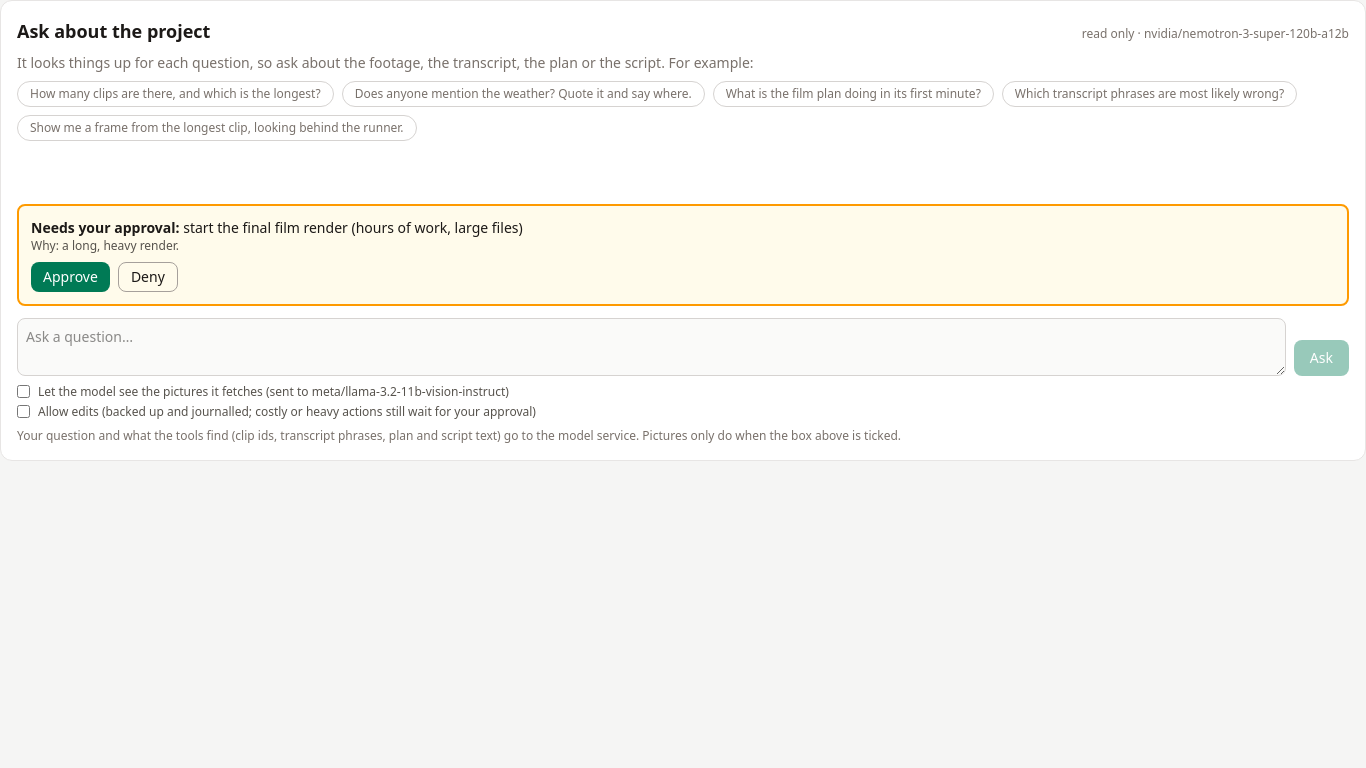
AskPage › shows what waits for approval when the page opens, and an answer can add to it
Expected: the text "Why: a long, heavy render." is shown, [31,237,179,254]
Type "render it" into the text box named "Your question" at (651, 347), box [17,318,1286,376]
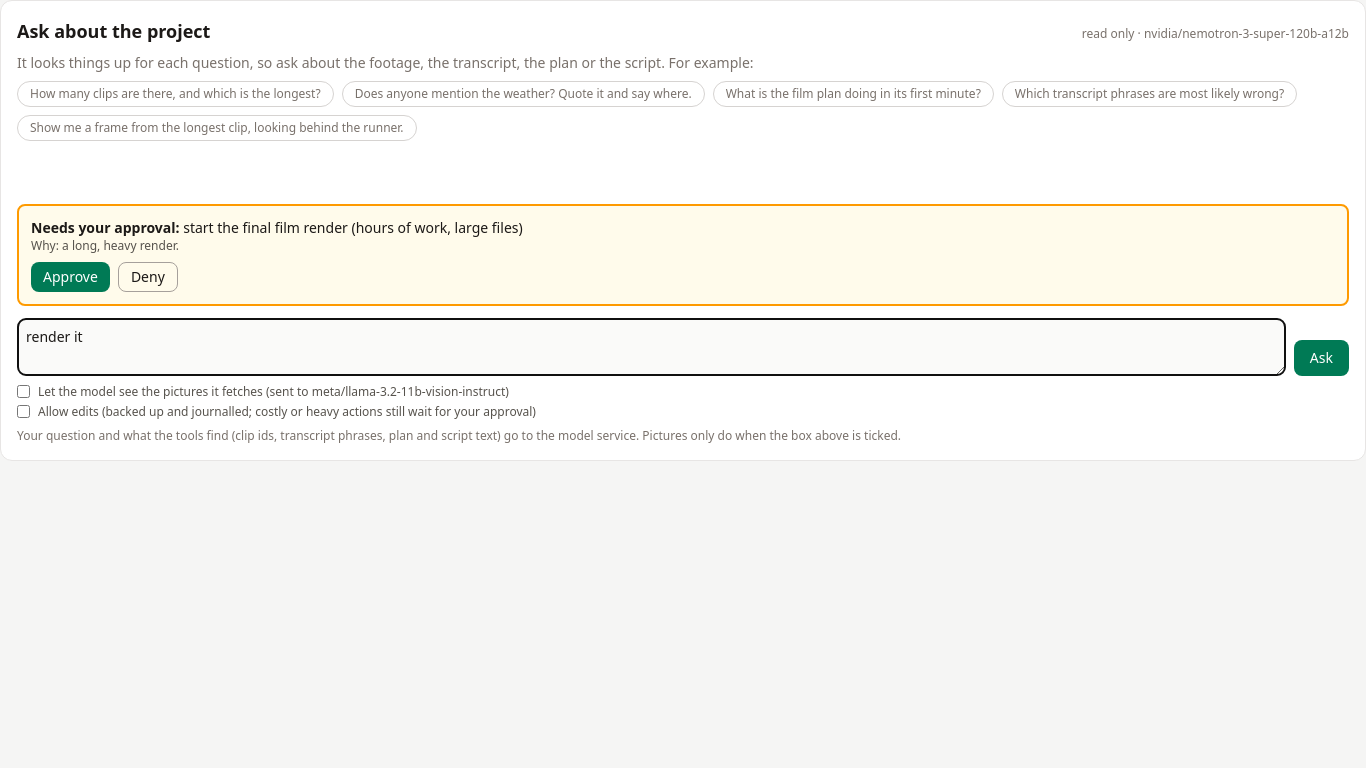
Click the button "Ask" at (1321, 358), box [1294,340,1349,376]
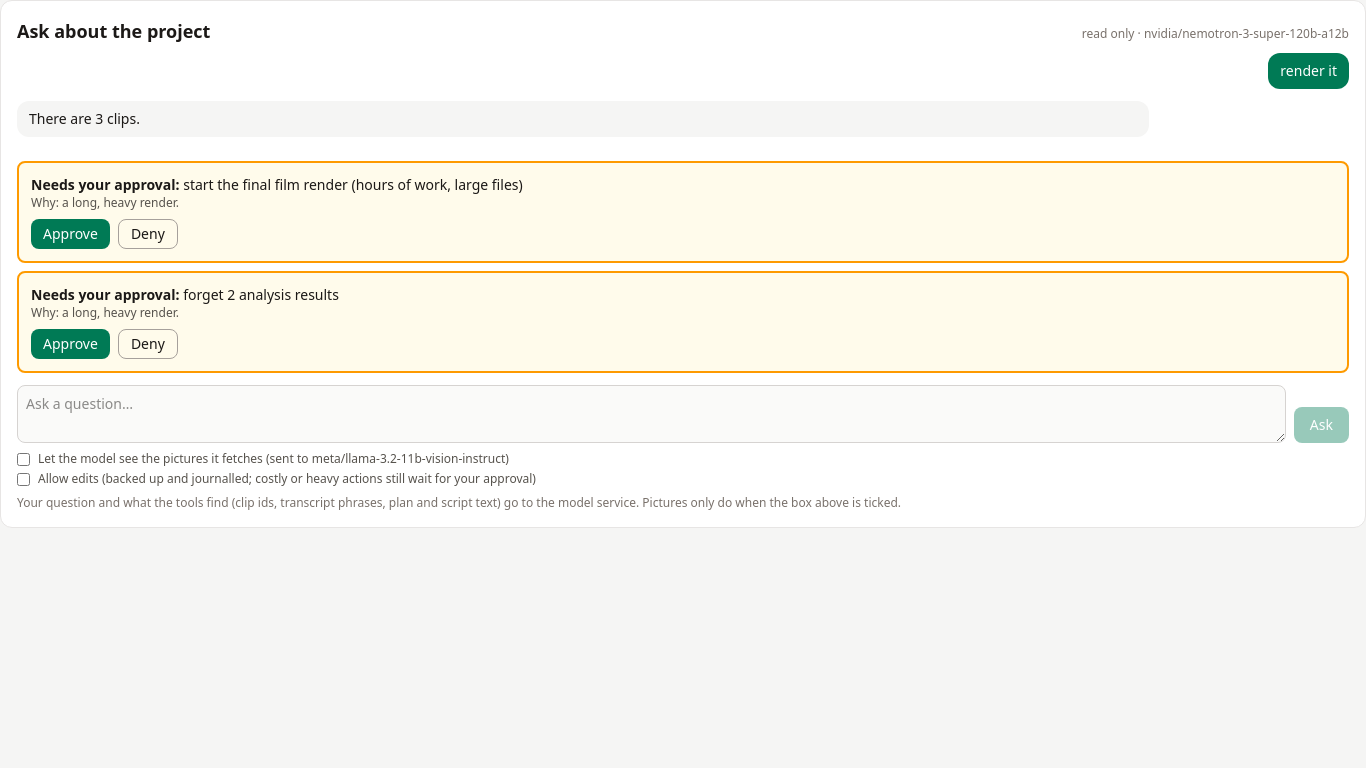
Now the number of list items is 2, box [17,161,1349,263]; [17,271,1349,373]
